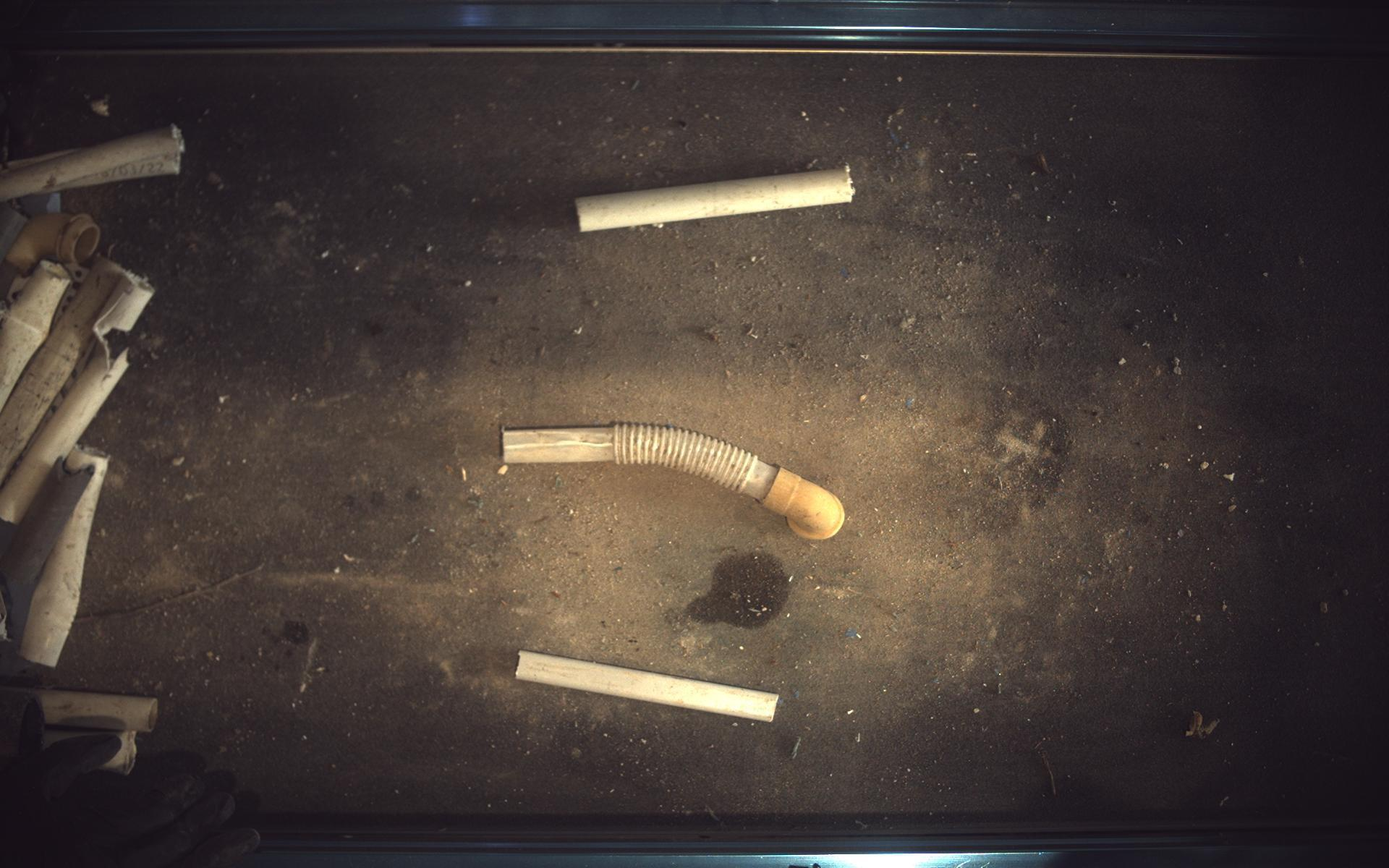pipes: (502, 422, 846, 540), (576, 166, 856, 231)
plastic: (516, 652, 780, 723)
